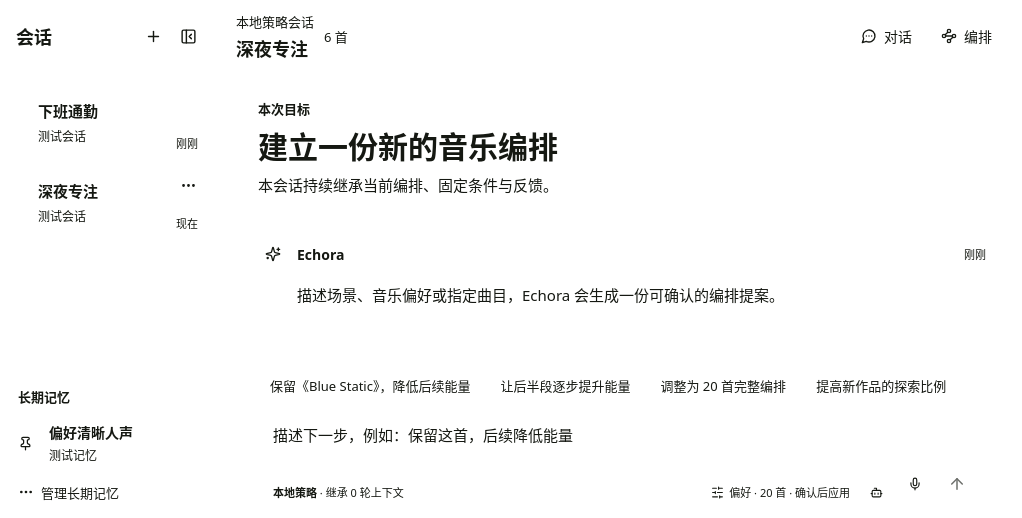
it: AgentSessionSpace › switches the same session between conversation and arrangement views
Step 1. Click the button "编排" → (966, 36), box [928,19,1005,53]
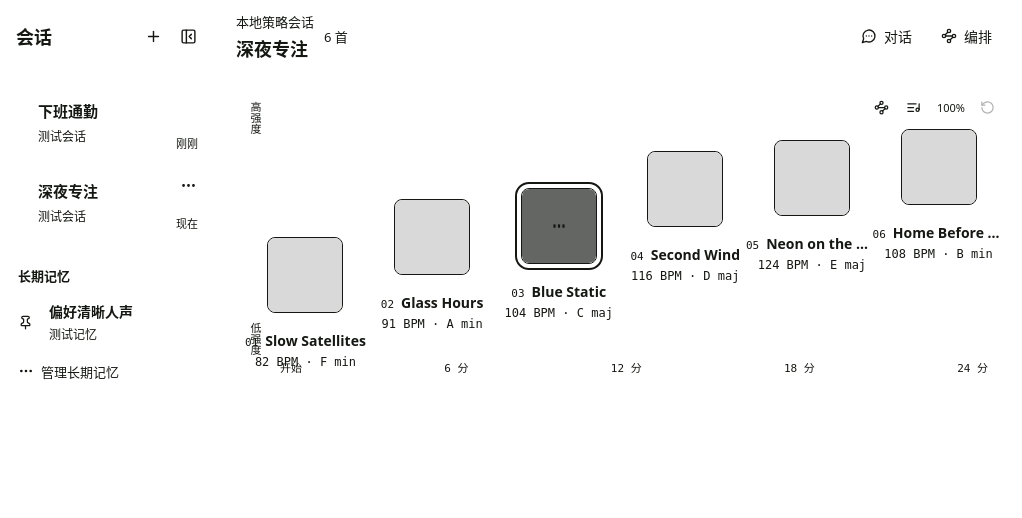
Check: the text "高强度" is shown, box [248,101,261,134]
Check: the button named "恢复默认大小" is shown, box [970,90,1004,124]
Step 2. Click the button "对话" → (886, 36), box [848,19,925,53]
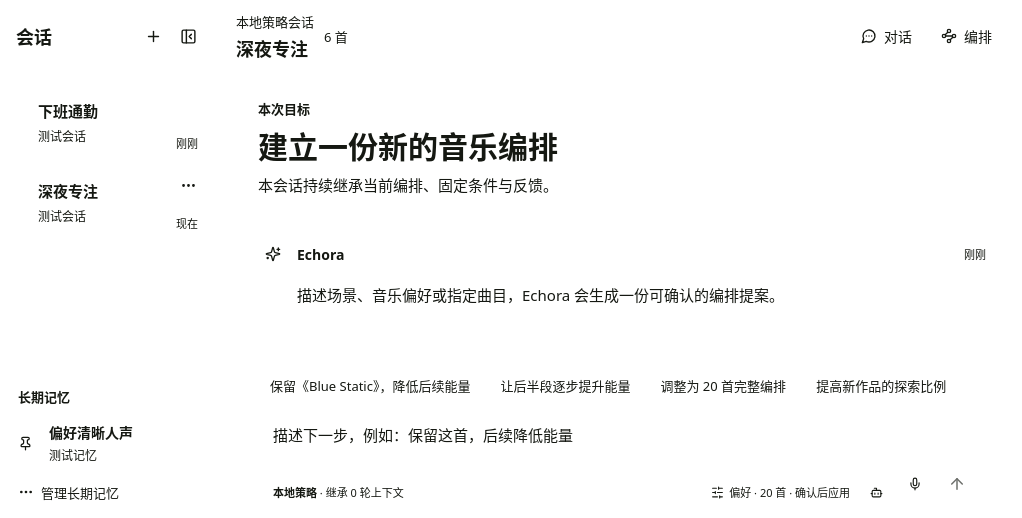
Check: the text box named "继续这次音乐会话" is shown, box [273,424,890,470]
